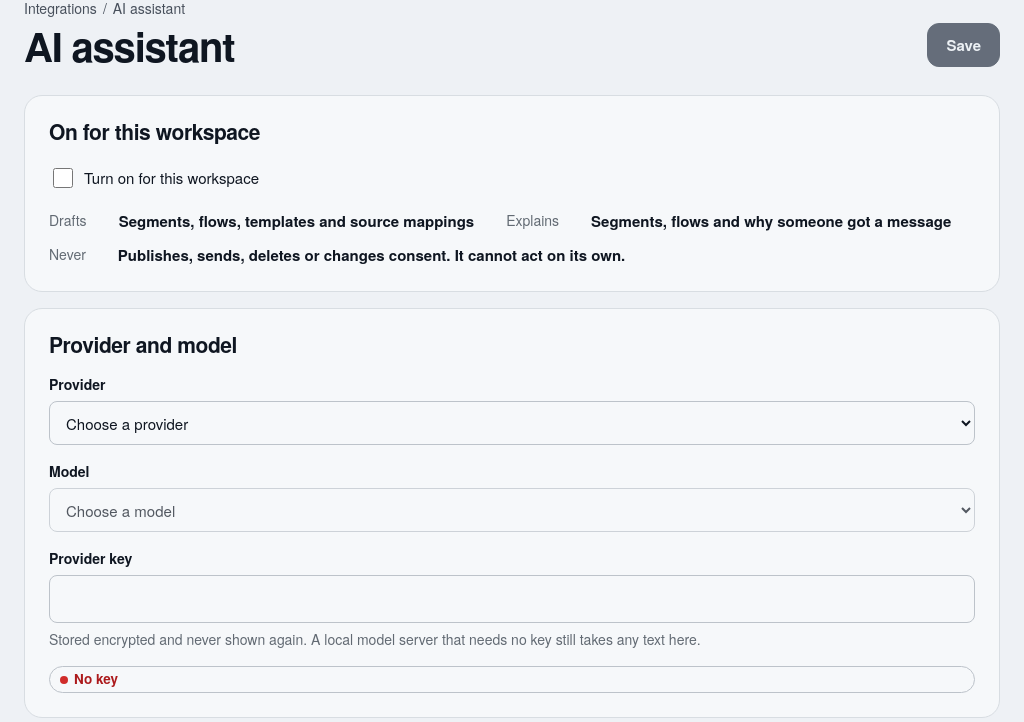
Test: AI assistant settings › has one Save, in the header, that saves every section at once and is off while nothing changed
Expected: the button "Save" is disabled, left=928, top=23, right=1000, bottom=67
Click the switch labelled "Turn on for this workspace".
click(63, 178)  # box left=53, top=168, right=73, bottom=188
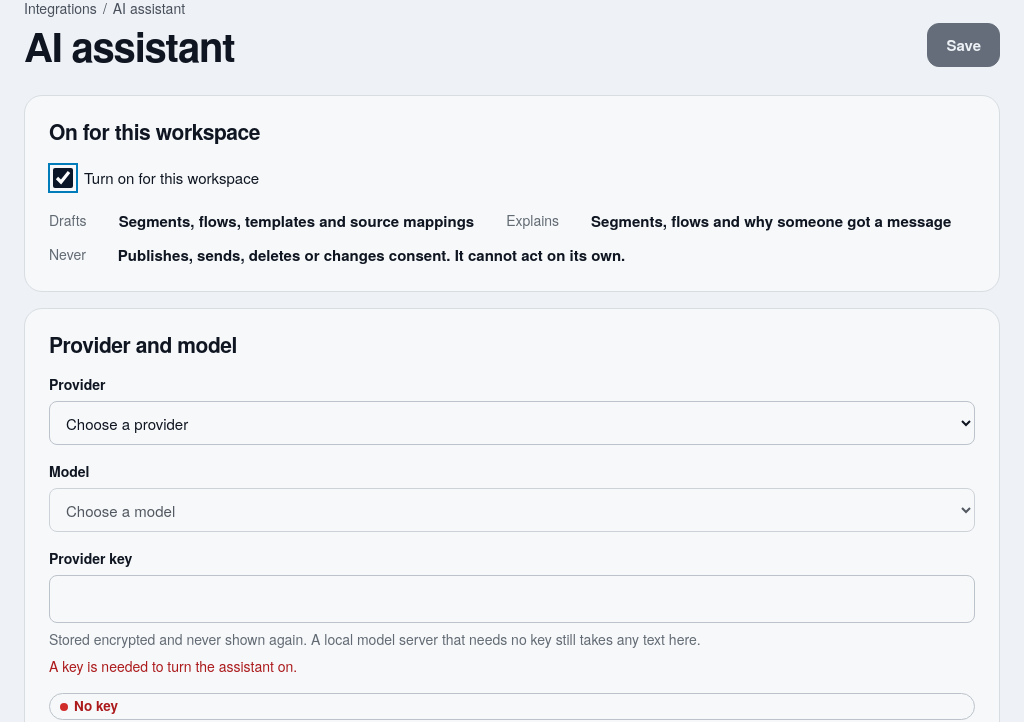
Select "anthropic" in the dropdown labelled "Provider" at (512, 423), box left=49, top=401, right=975, bottom=445
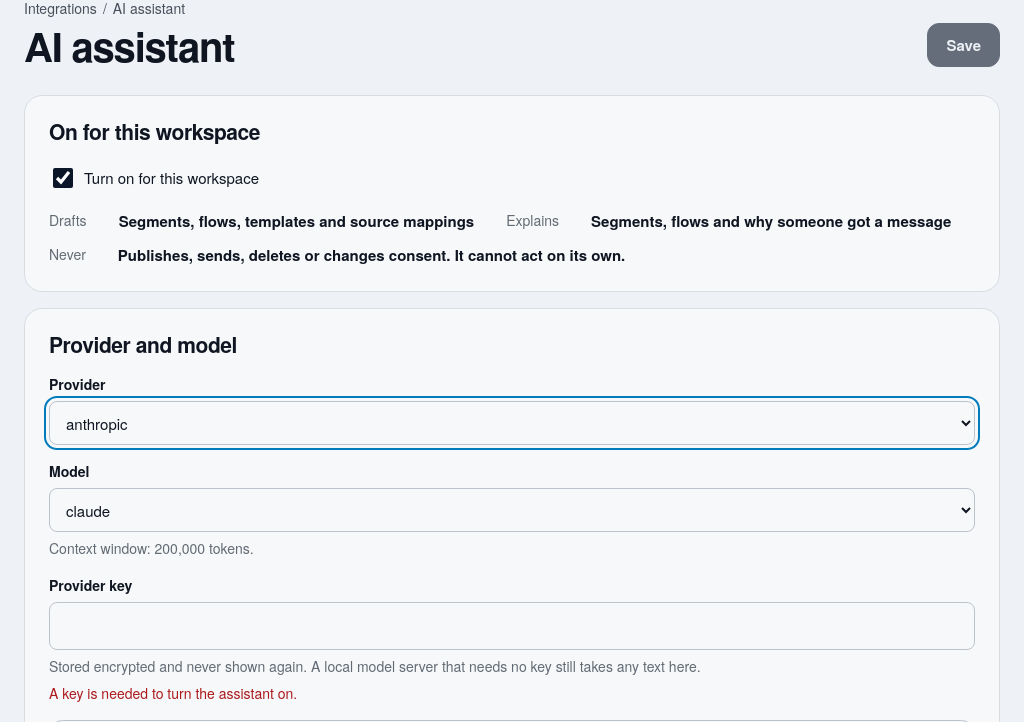
Type "sk-typed-key" into the password field labelled "Provider key".
click(512, 626); type("sk-typed-key")  # box left=49, top=602, right=975, bottom=650
(page scrolled)
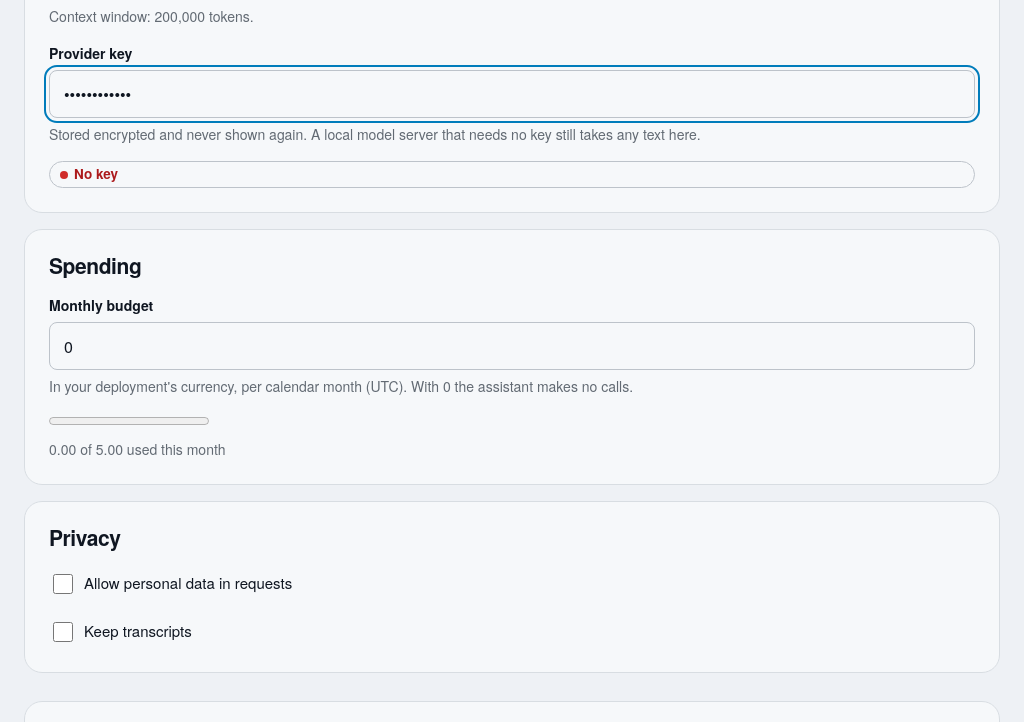
Replace the text in the number field labelled "Monthly budget" with "2.5" at (512, 346), box left=49, top=322, right=975, bottom=370
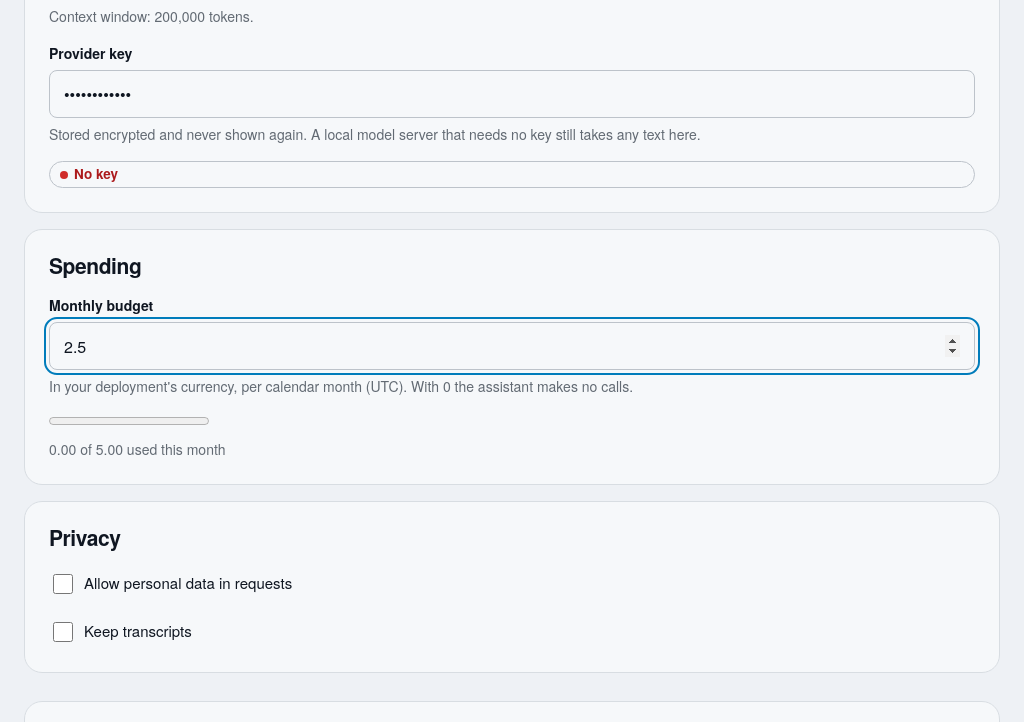
Click the checkbox labelled "Keep transcripts".
click(63, 632)  # box left=53, top=622, right=73, bottom=642
(page scrolled)
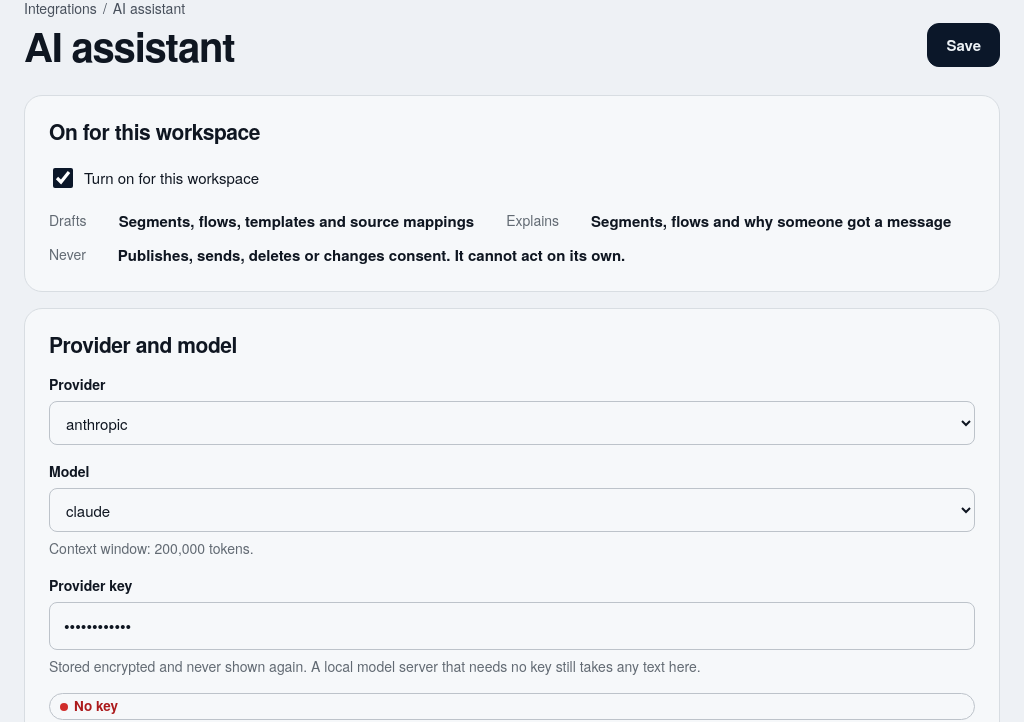
Click the button "Save".
click(964, 45)  # box left=928, top=23, right=1000, bottom=67
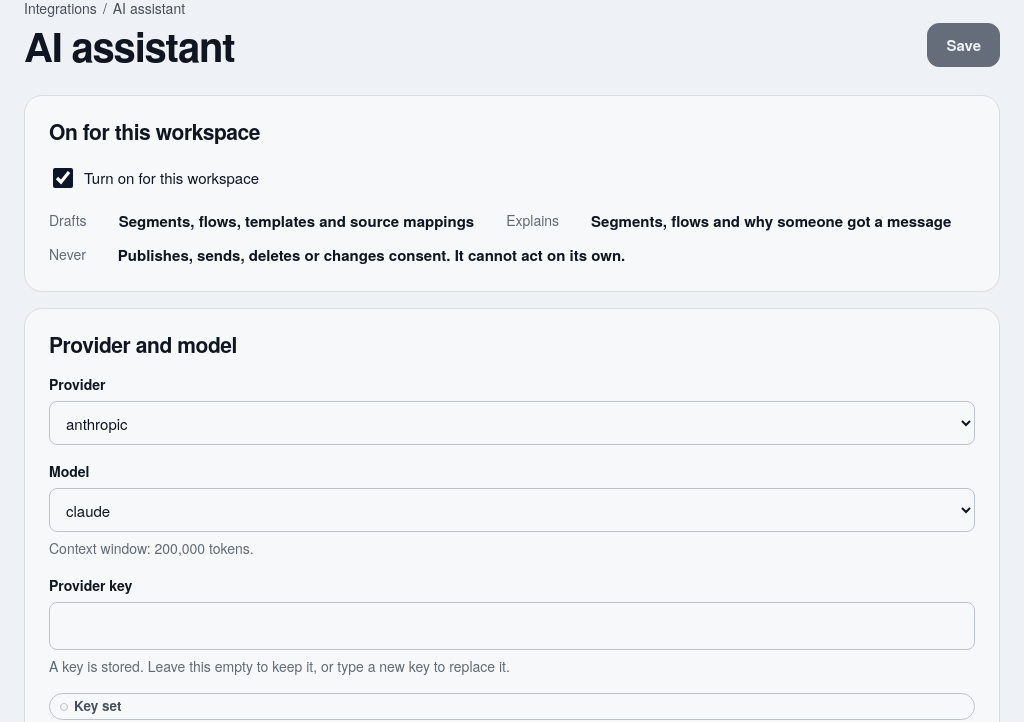
Expected: the number of buttons "Save" is 1, left=928, top=23, right=1000, bottom=67
Result: the text "Key set" is shown at left=49, top=693, right=975, bottom=720
Result: the password field labelled "Provider key" is empty at left=49, top=602, right=975, bottom=650
